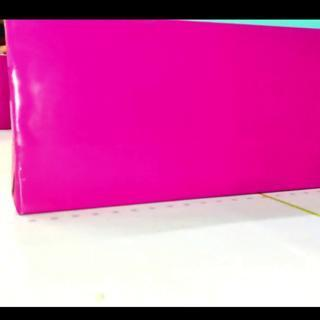xparking: (21, 30, 320, 217), (4, 58, 11, 130)
